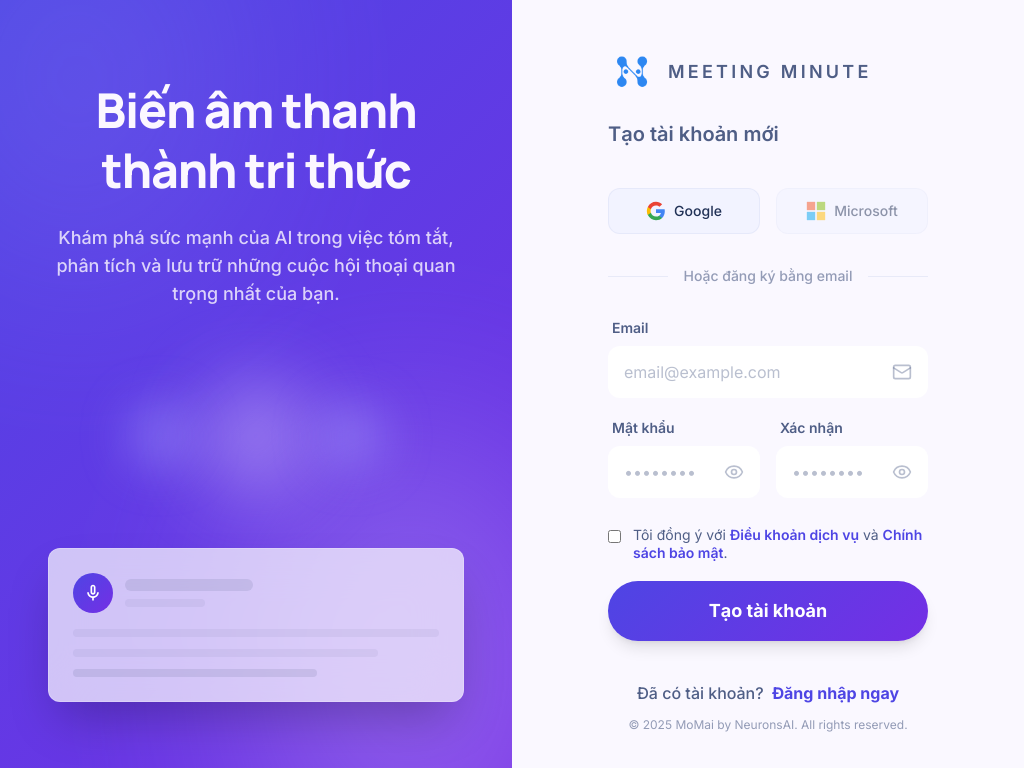
Test: RegisterPage › hien thi "Dang dang ky..." va disable nut submit khi dang loading
Click the checkbox at (614, 536), box [608,530,621,543]
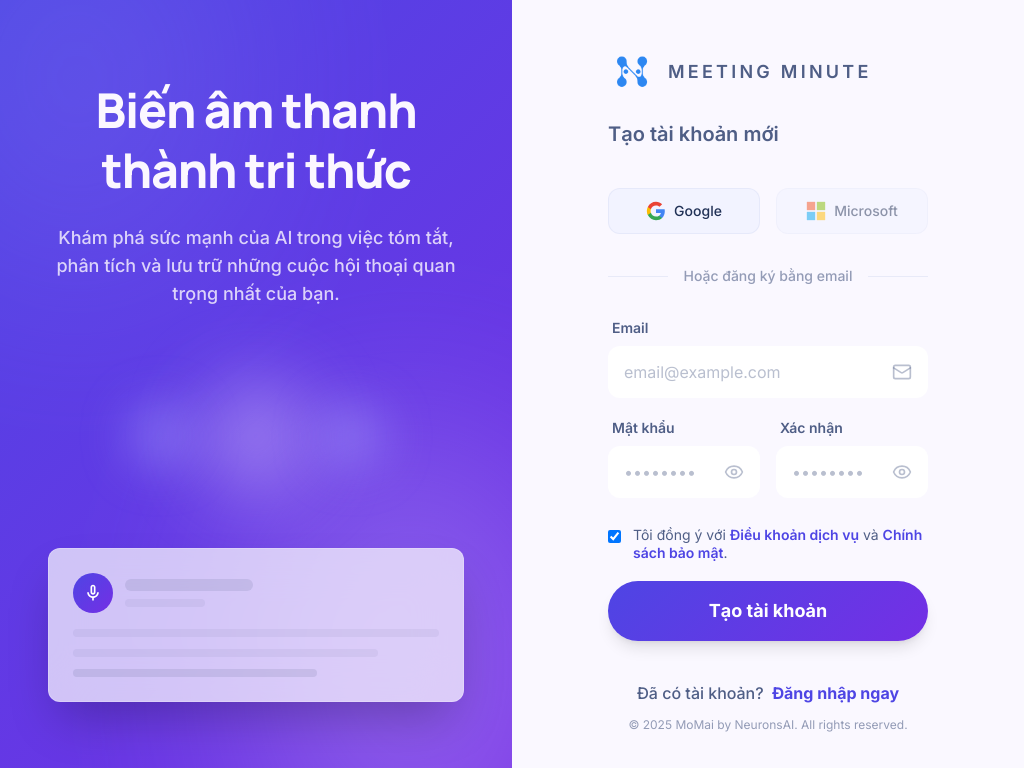
Type "user@example.com" into the field labelled "Email" at (768, 372), box [608,346,928,398]
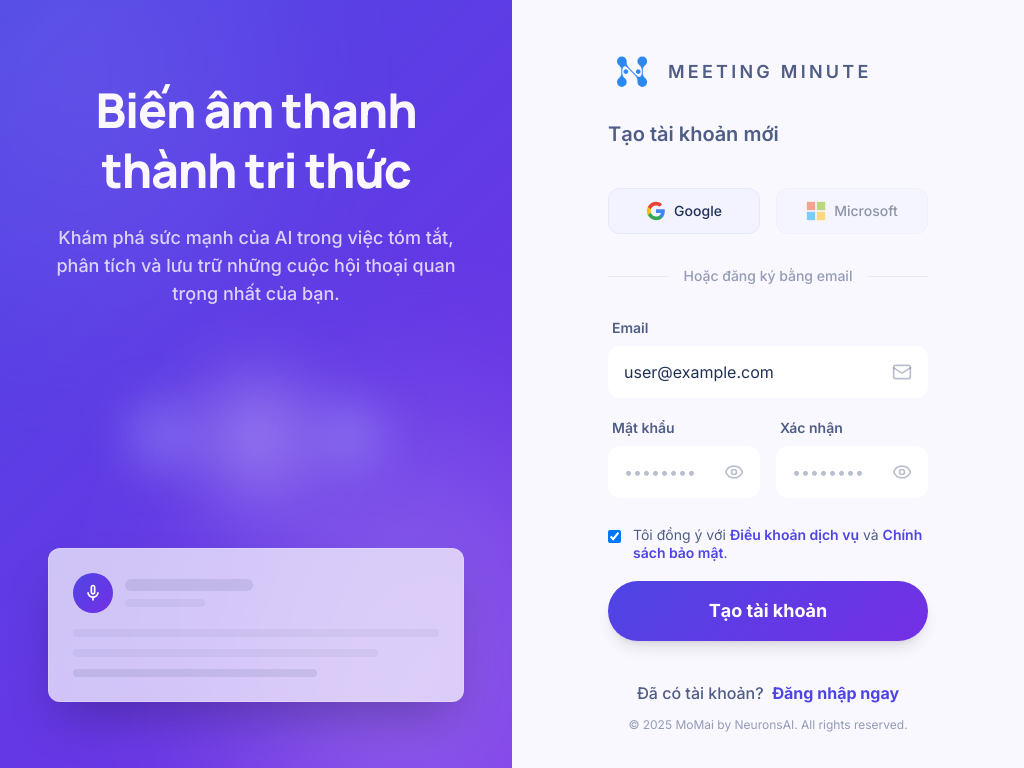
Type "password123" into the password field labelled "Mật khẩu" at (684, 472), box [608,446,760,498]
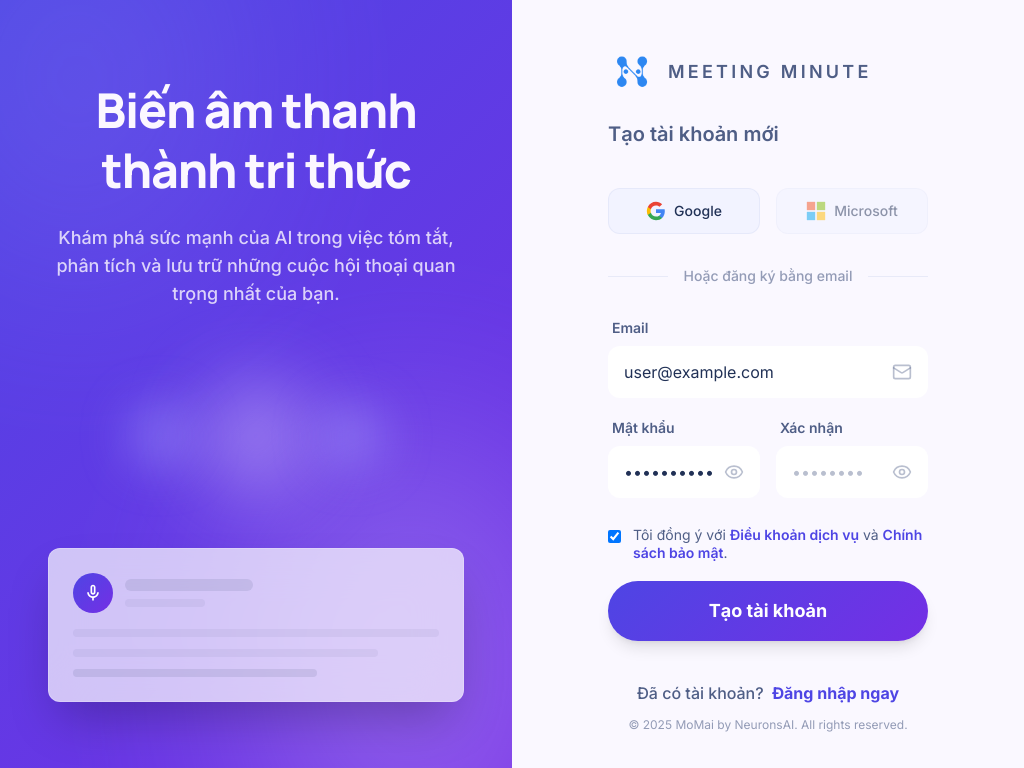
Type "password123" into the password field labelled "Xác nhận" at (852, 472), box [776,446,928,498]
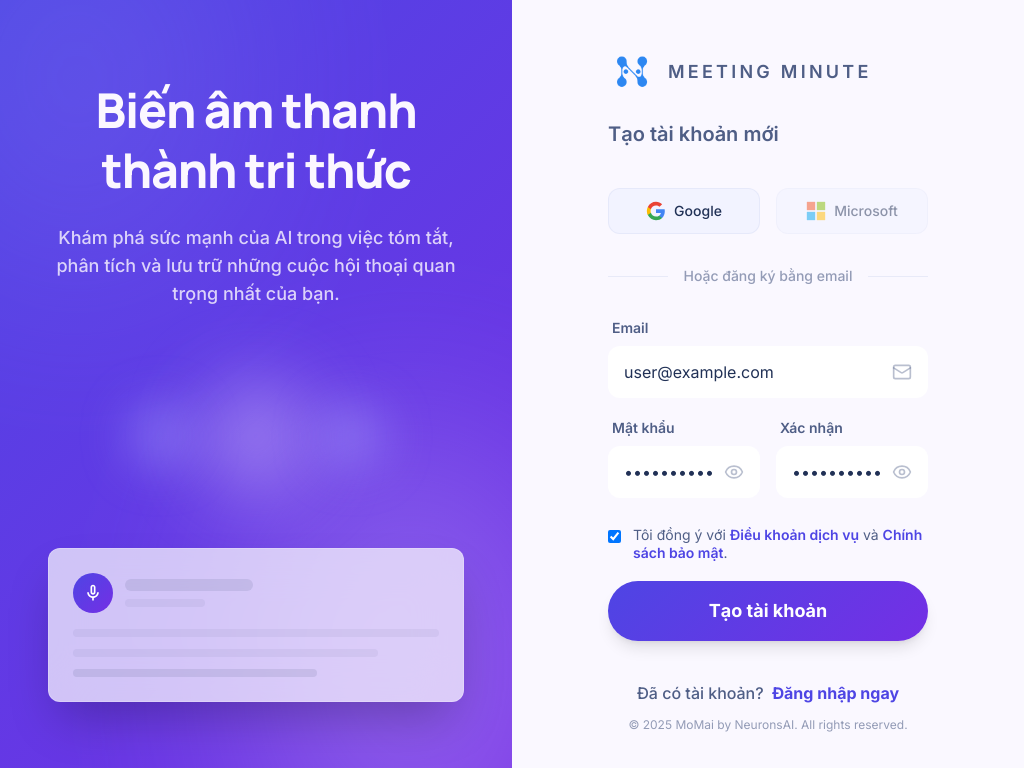
Click the button "Tạo tài khoản" at (768, 611), box [608,581,928,641]
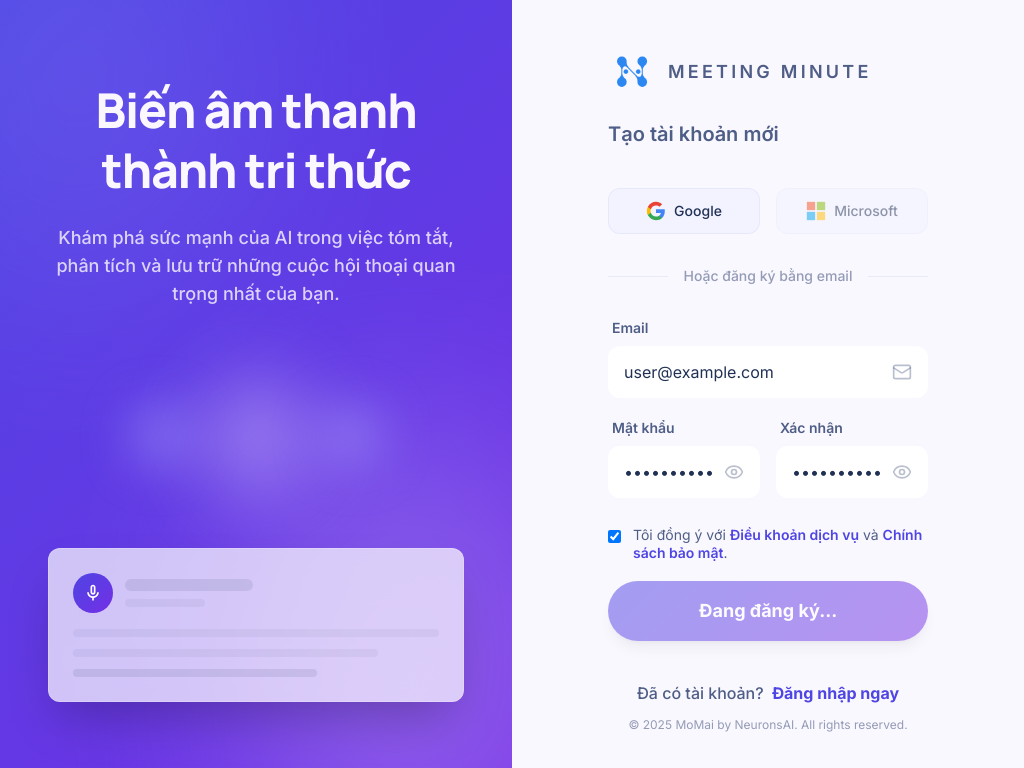
expect the button "Đang đăng ký..." is disabled: met, box [608,581,928,641]
